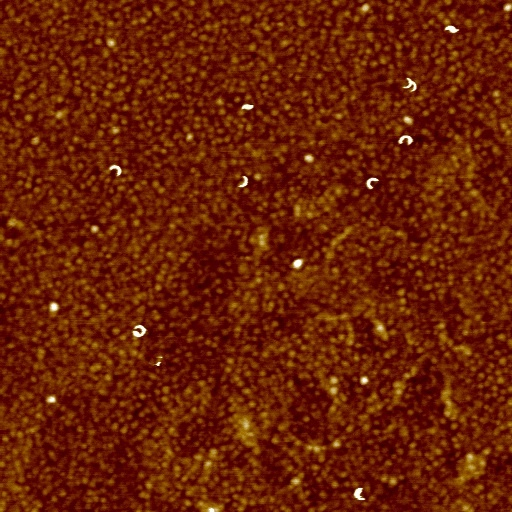-1: (237, 101, 256, 113), (292, 256, 305, 270), (444, 24, 457, 35), (44, 395, 57, 406), (50, 302, 60, 313)
2/4: (394, 133, 415, 148), (106, 164, 124, 180), (366, 174, 380, 193), (236, 172, 249, 190), (353, 486, 366, 503), (398, 74, 410, 91), (410, 77, 419, 95)
3/4: (133, 323, 149, 341)
